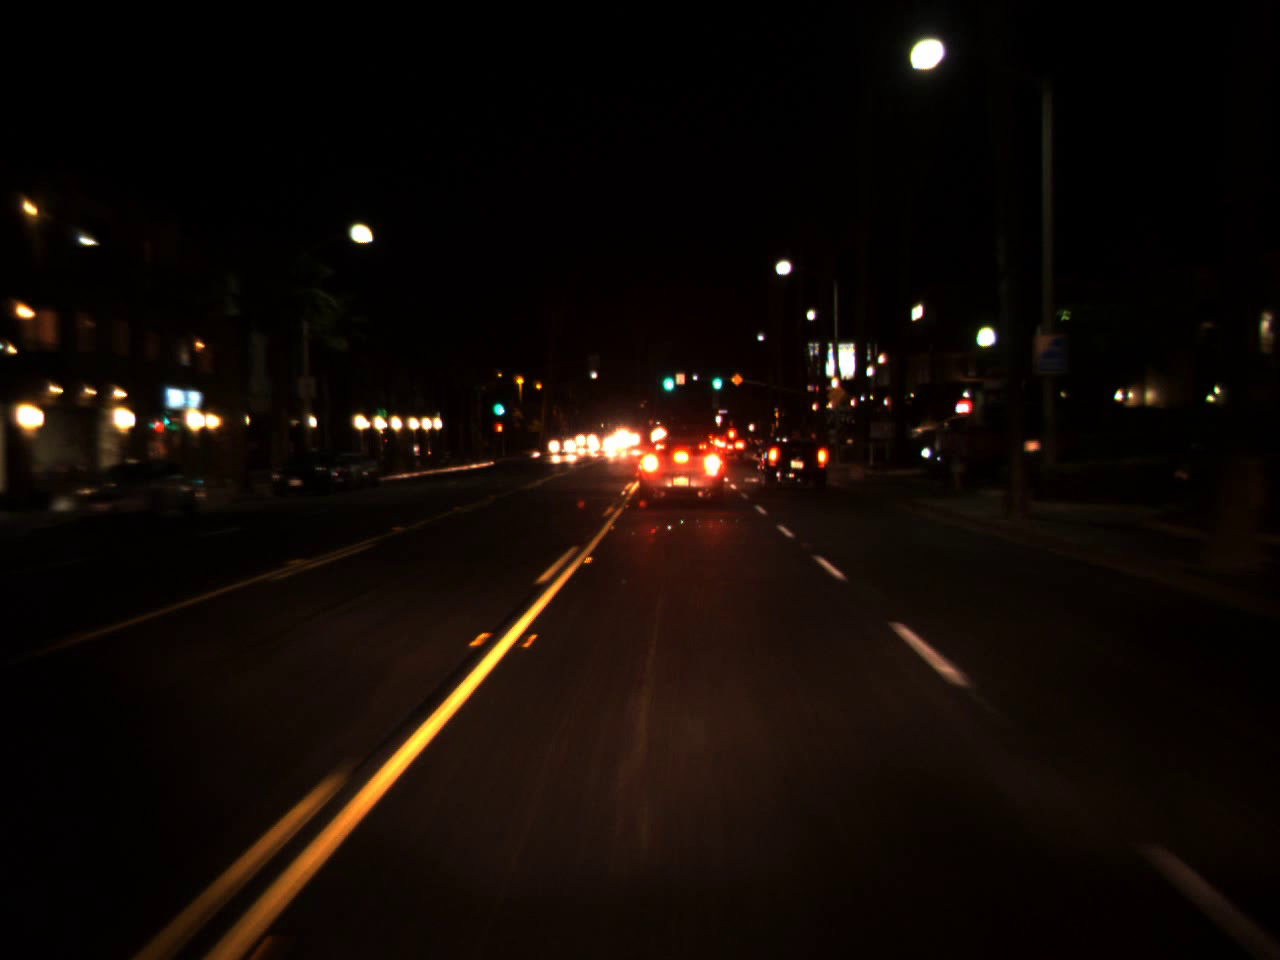go: (659, 362, 675, 395), (490, 387, 504, 419), (710, 364, 724, 394)
